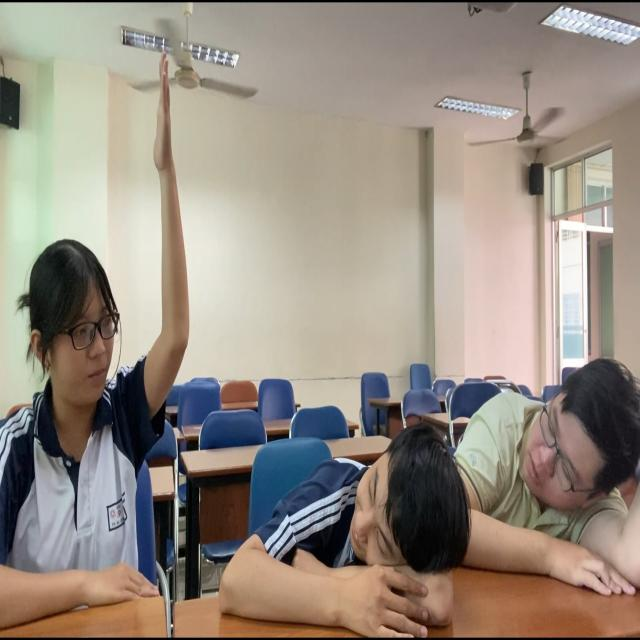raise_hand: (1, 27, 201, 640)
sleep: (207, 407, 478, 640), (453, 339, 640, 609)
